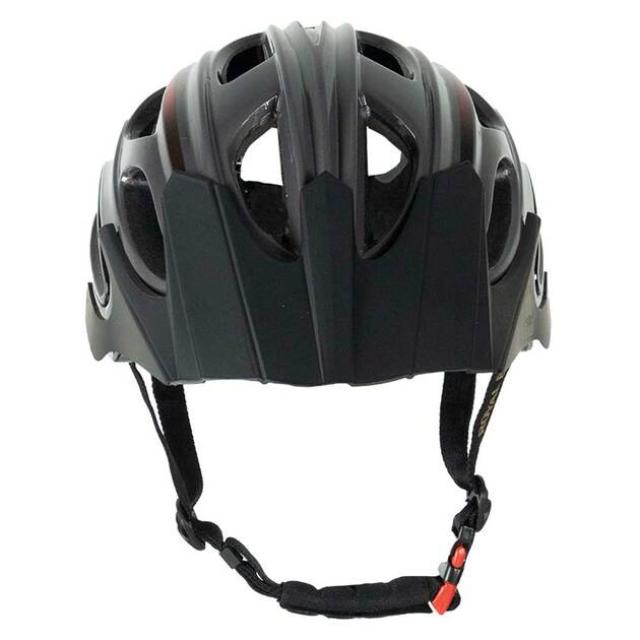Helmet: (63, 5, 564, 402)
